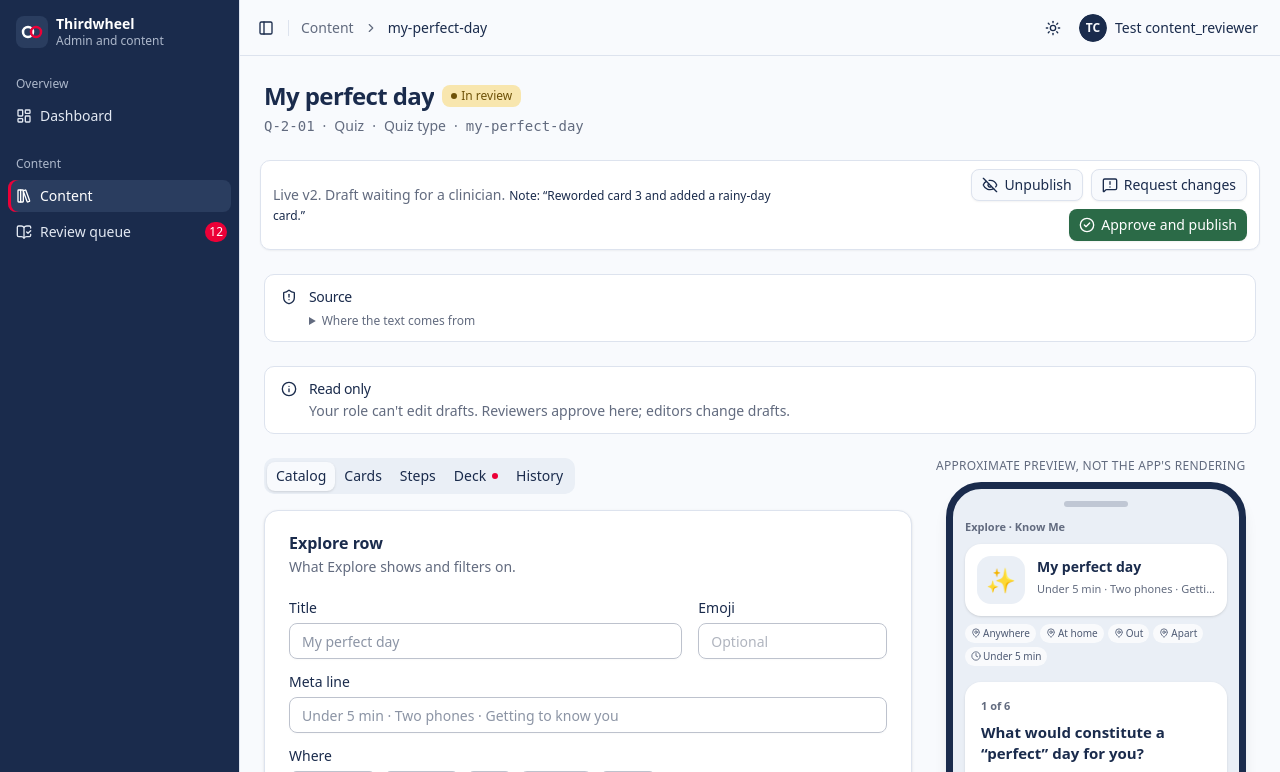
Test: content item editor (mock API) › a content reviewer sees Approve, Request changes and Unpublish on a draft in review (no editing), and approves it
This screenshot has width=1280, height=772.
expect the text "Read only" is shown: met, box [309,379,370,398]
Click the button "Approve and publish" at (1158, 225), box [1069,209,1247,241]
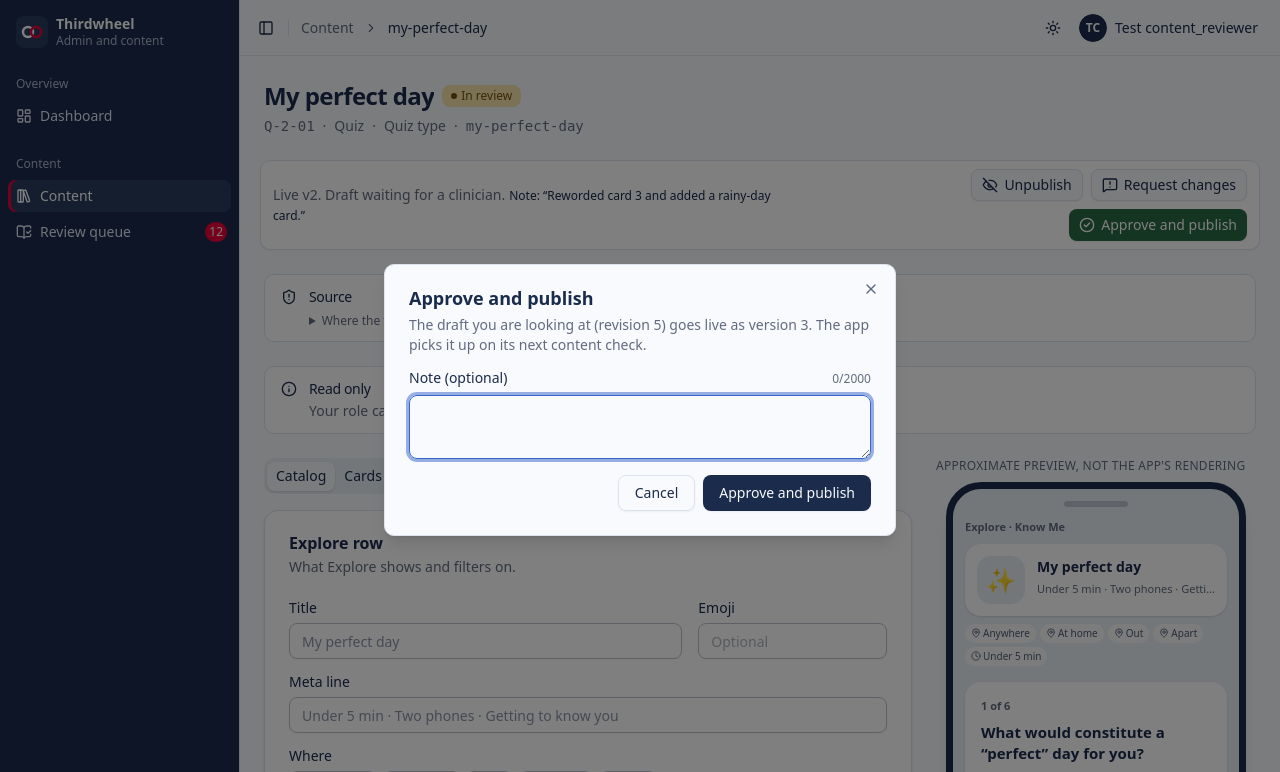
Type "Reads well." into the text box at (640, 427), box [409,395,871,459]
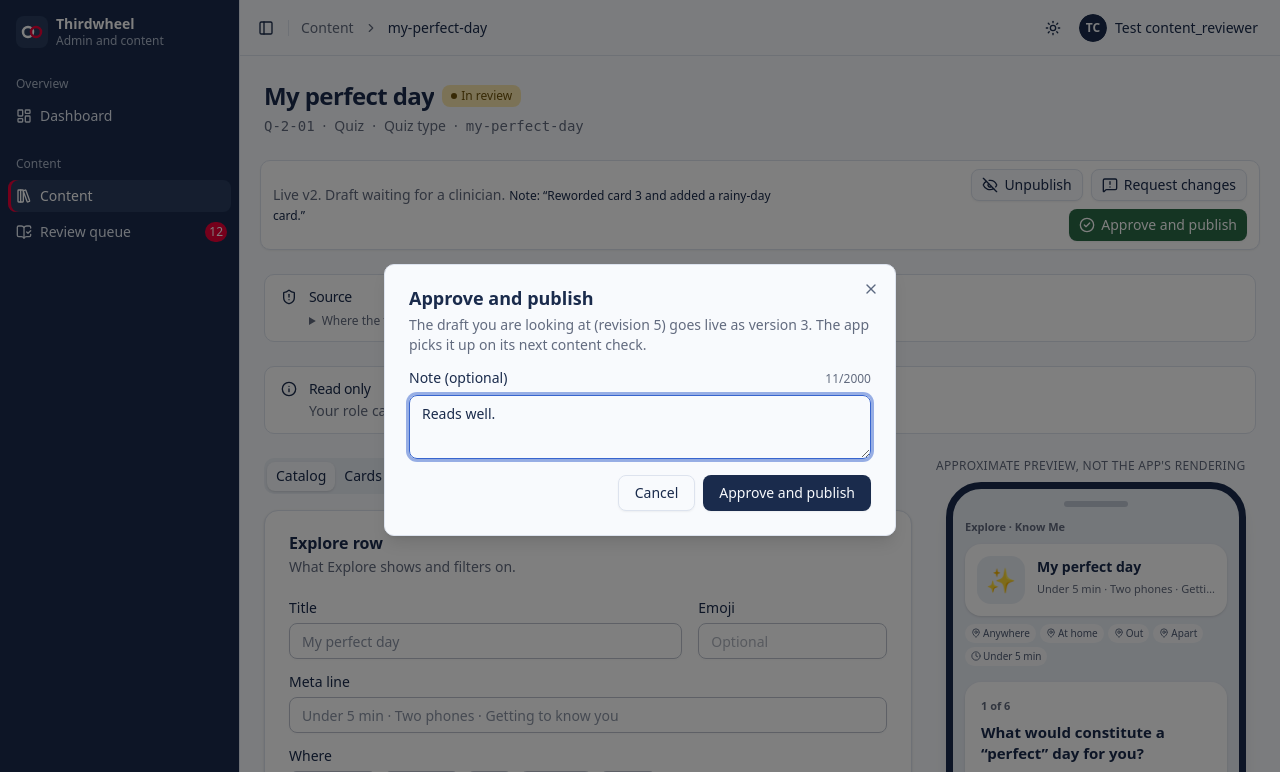
Click the button "Approve and publish" at (787, 493), box [703,475,871,511]
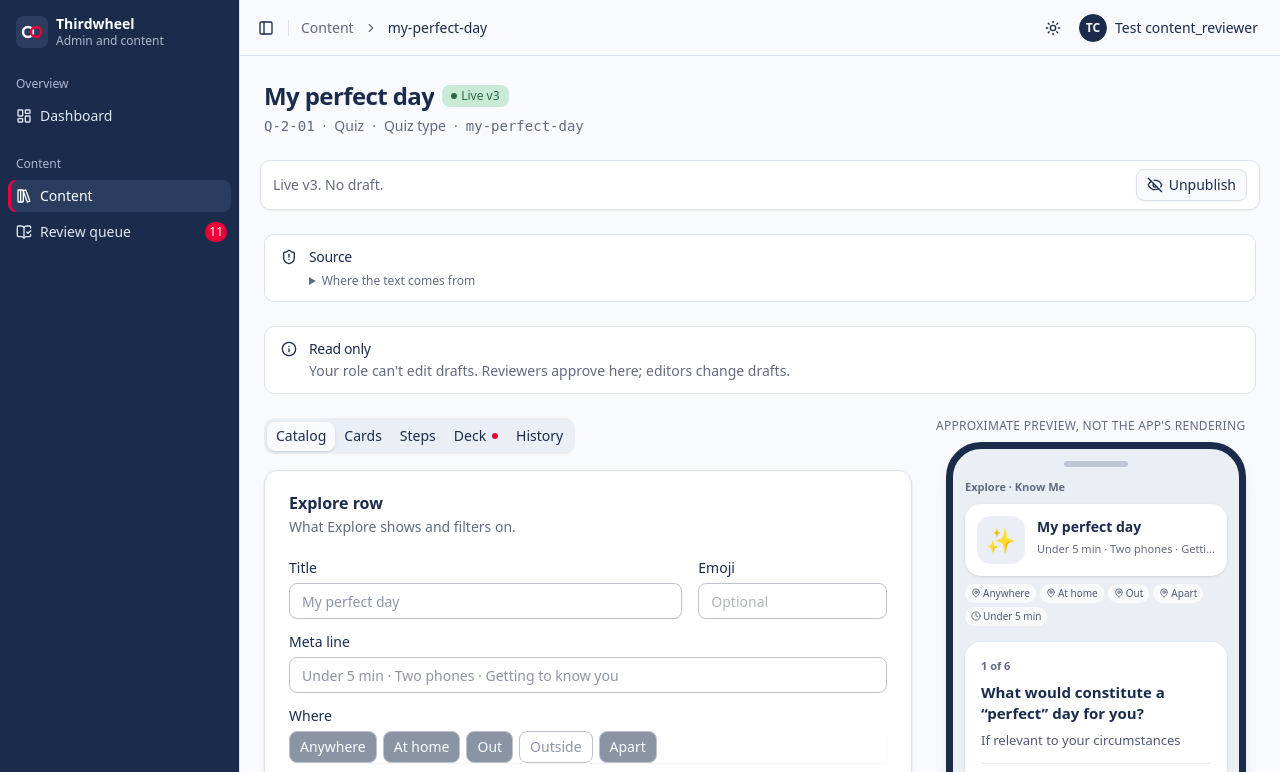
expect the text "Live v3. No draft." is shown: met, box [273,175,384,195]
